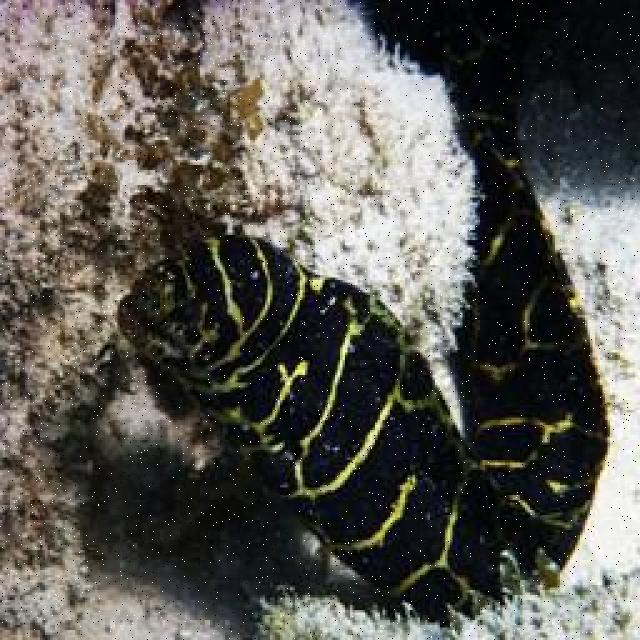fish: (114, 24, 612, 627)
